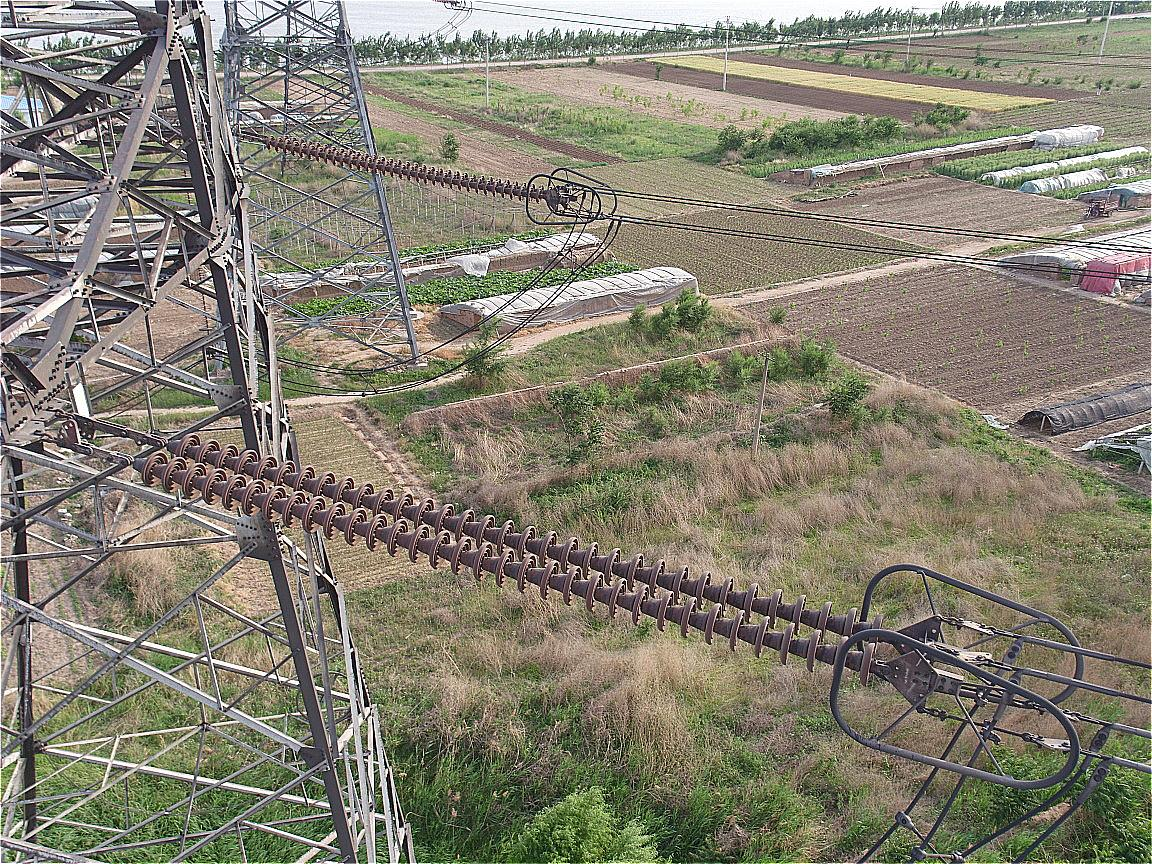insultor1: (135, 418, 881, 687)
